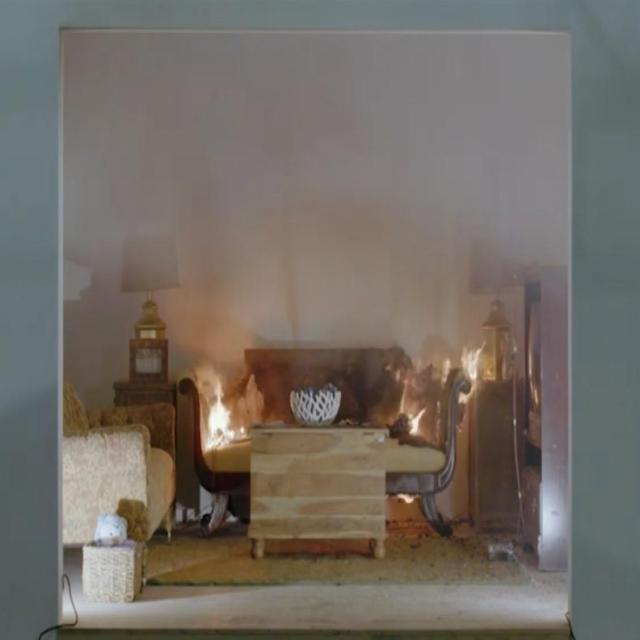smoke: (440, 335, 487, 408), (200, 372, 239, 444), (397, 386, 428, 439)
